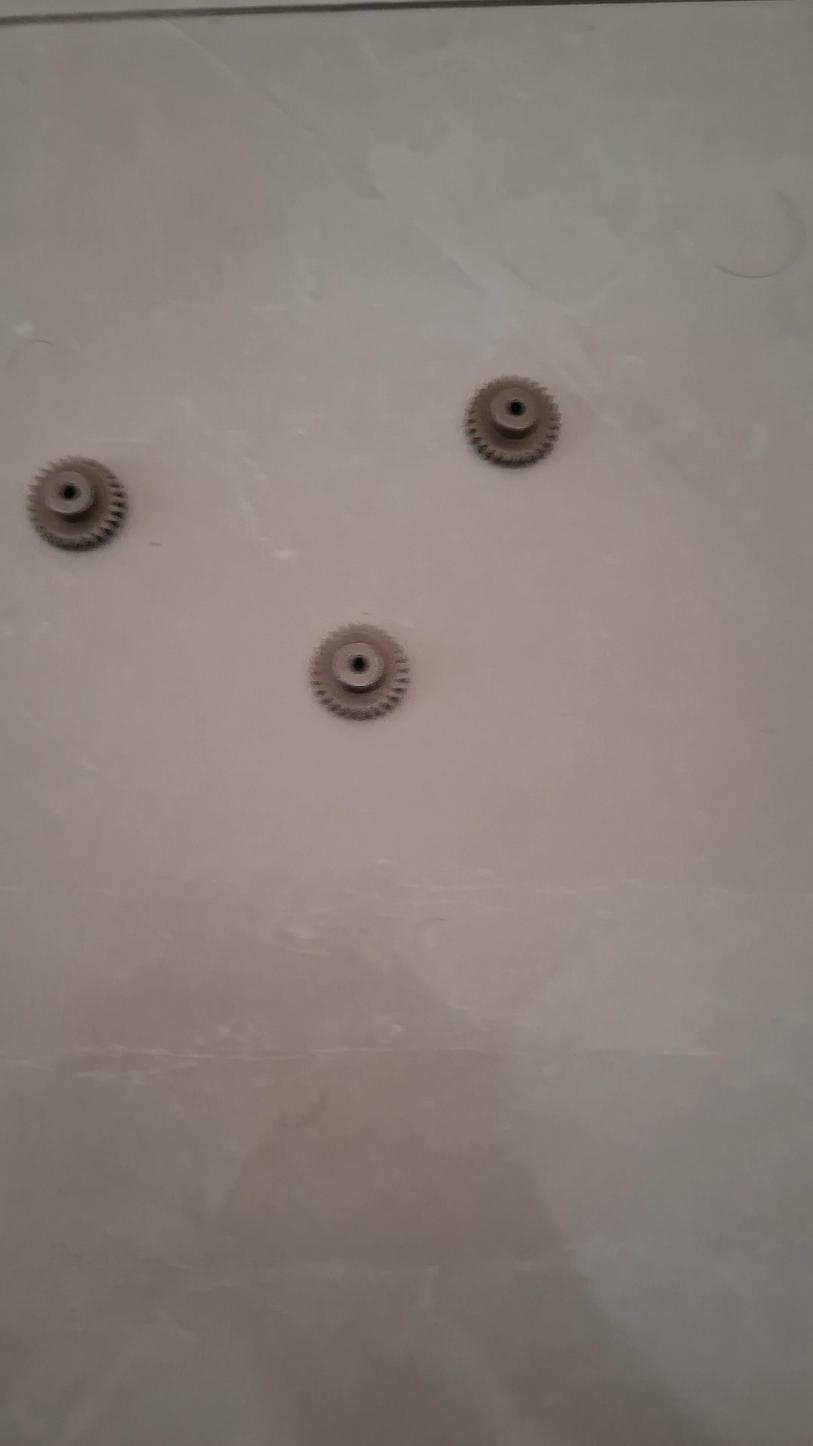spur gear: (310, 624, 409, 719), (28, 458, 126, 549), (465, 377, 560, 465)
